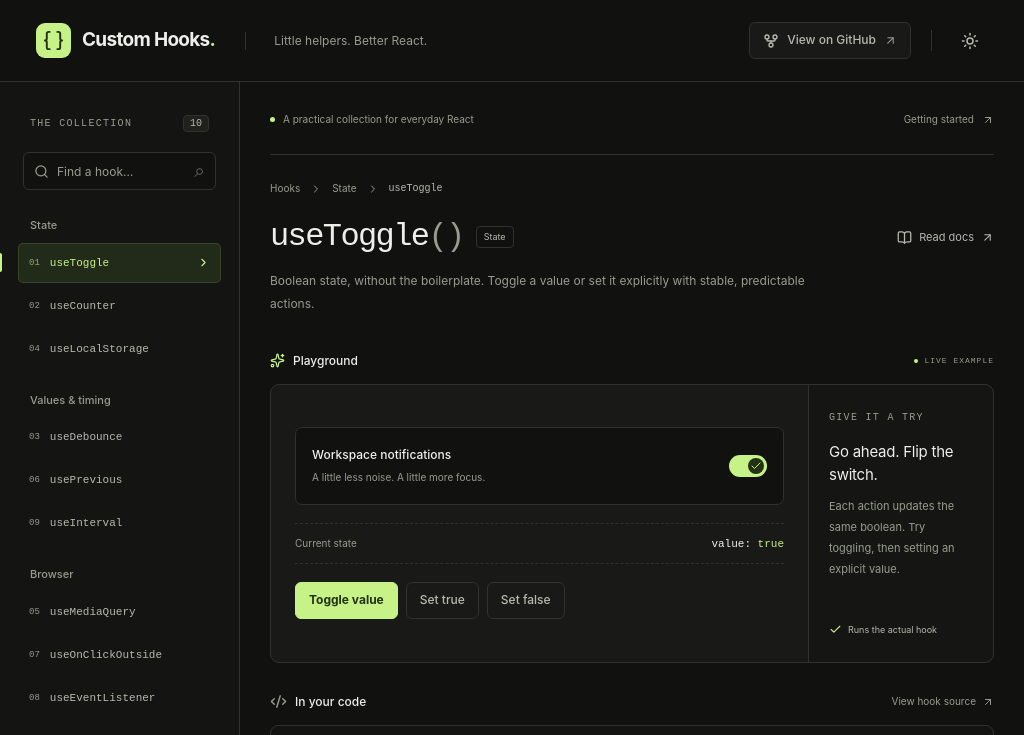
Test: playground › listens for real keyboard events and clears the last key
The image size is (1024, 735).
Click the link "08 useEventListener": (92, 698) [29,692,155,704]
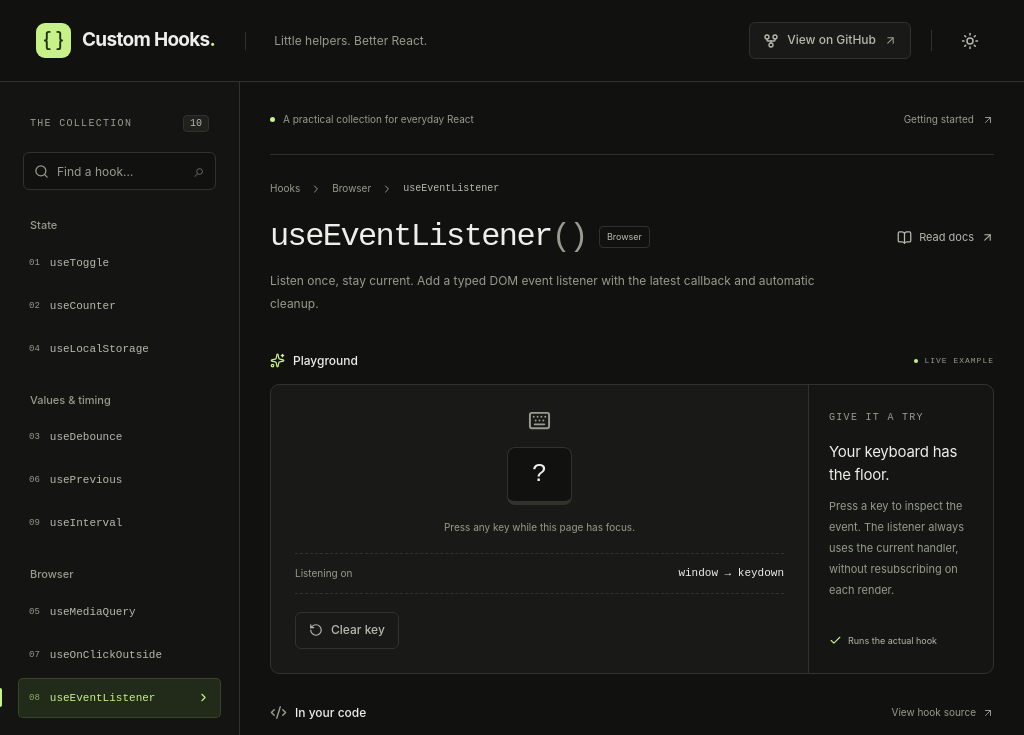
Type keys "k"
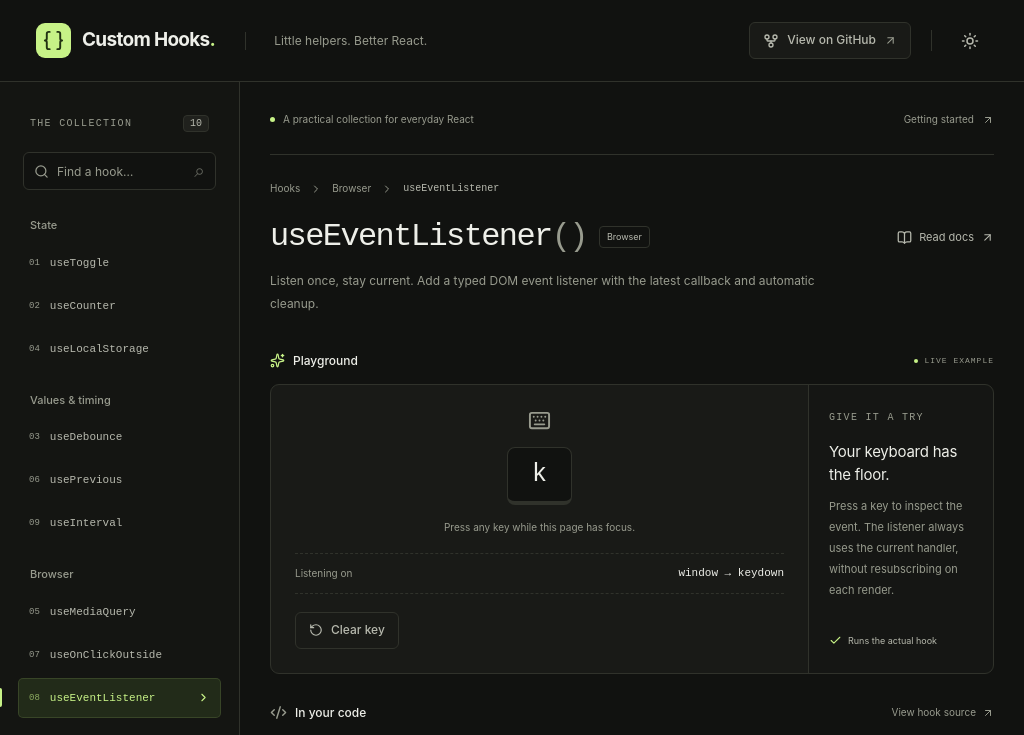
Expected: the text named "Last pressed key" reads "k", [532,460,547,489]
Click the button "Clear key": (347, 630) [295,612,399,649]
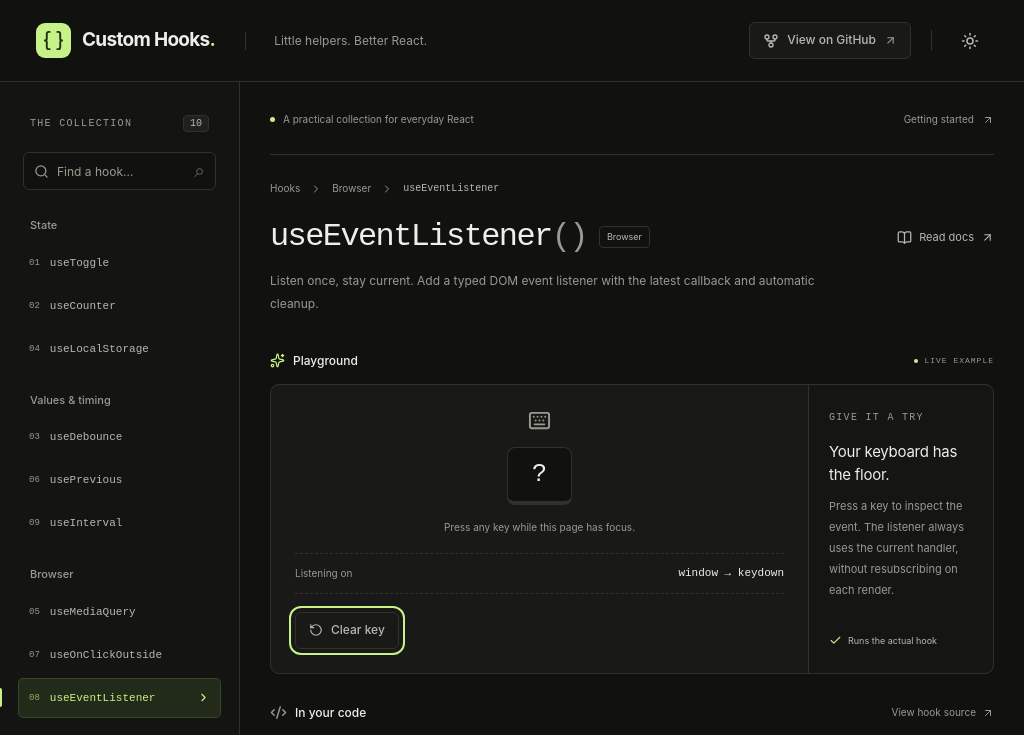
Expected: the text named "Last pressed key" reads "?", [532,460,547,489]
